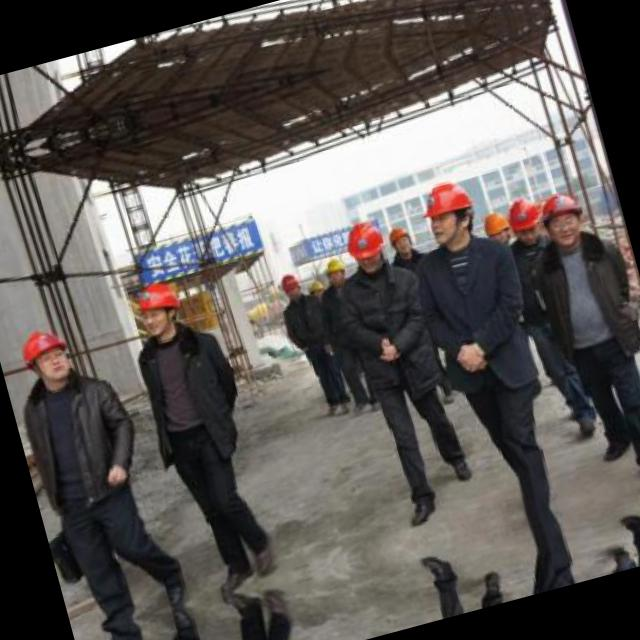helmet: (414, 174, 484, 250), (13, 320, 79, 392), (128, 274, 188, 342), (534, 184, 588, 248), (342, 216, 392, 275), (504, 189, 550, 251), (477, 206, 519, 253), (317, 251, 351, 292), (387, 220, 418, 260), (274, 269, 304, 305), (303, 276, 328, 306)
